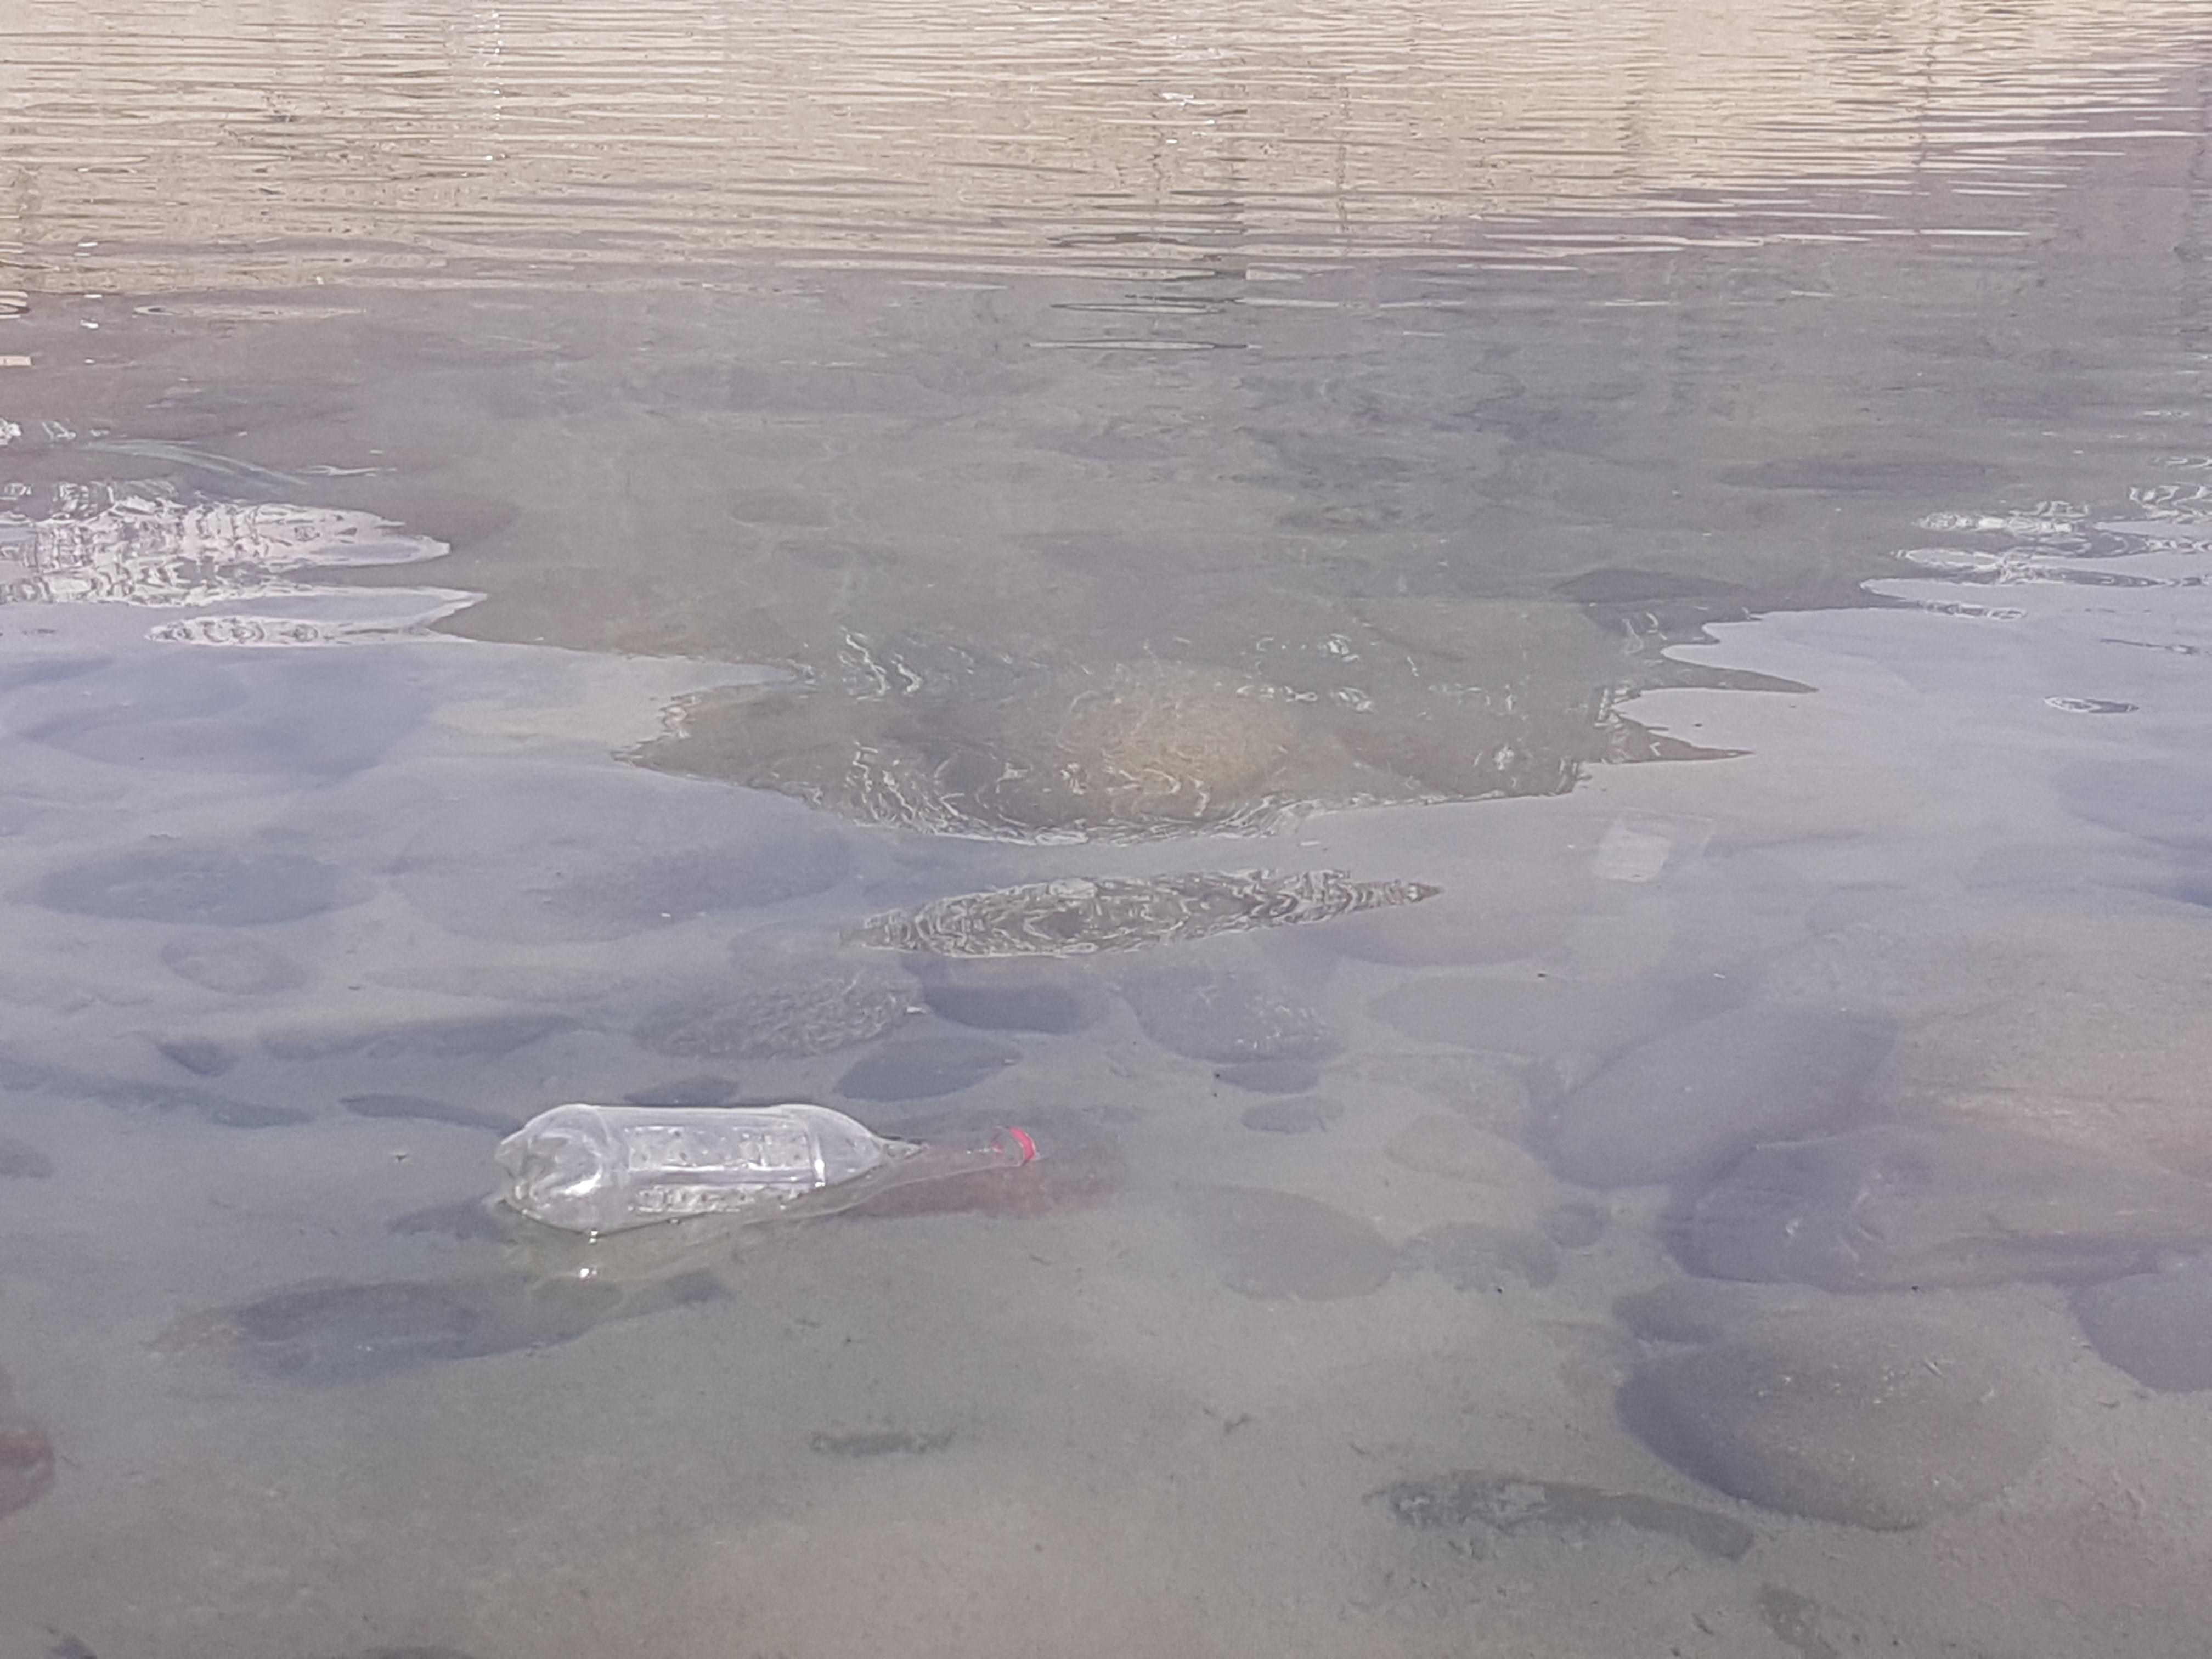Plastic Bottle: (496, 1101, 1054, 1237)
